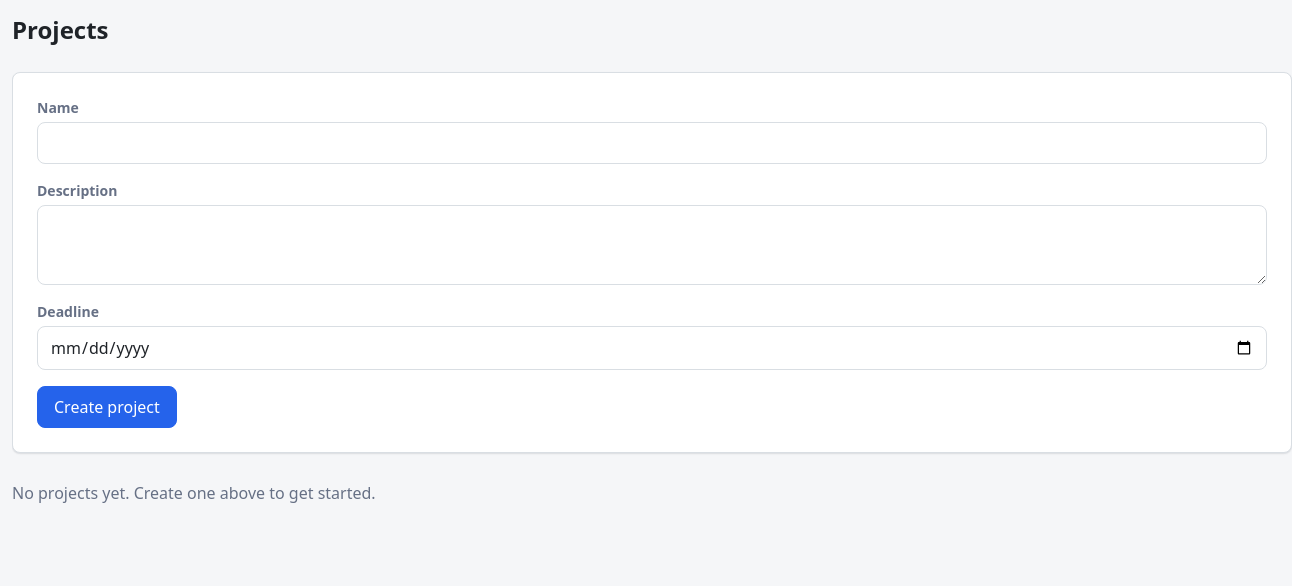
Test: ProjectsPage › shows a friendly message for a backend Name validation error (duplicate name)
The width and height of the screenshot is (1292, 586).
Check: the text "No projects yet. Create one above to get started." is shown, box [12, 482, 376, 504]
Type "Demo Project" into the field labelled "Name" at (652, 143), box [37, 122, 1267, 164]
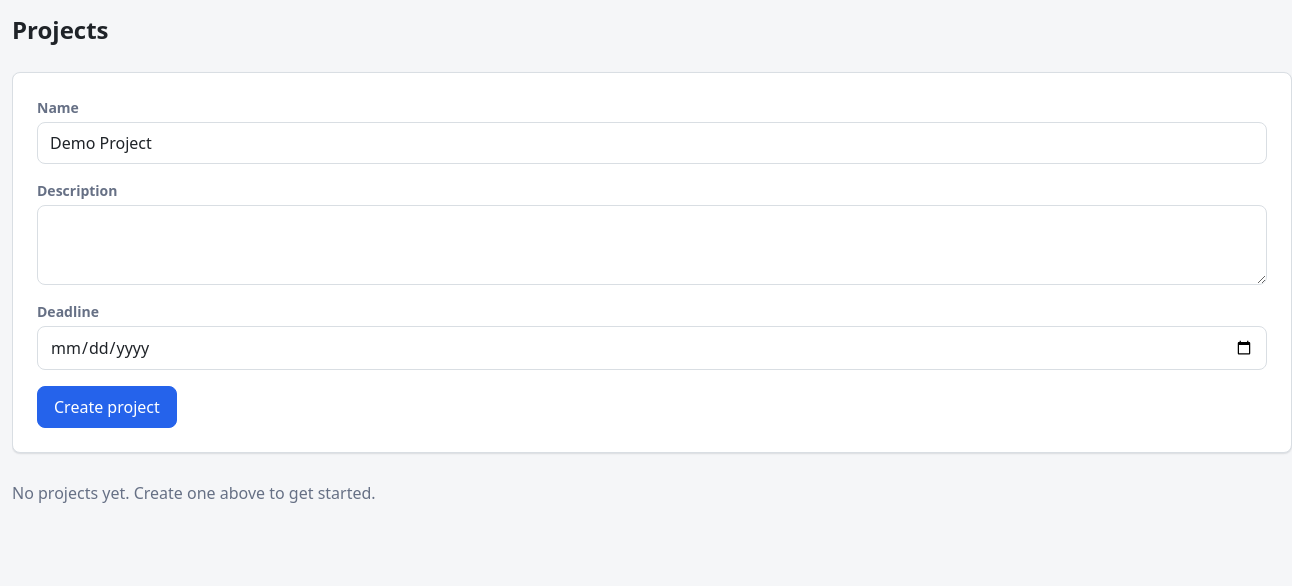
Click the button "Create project" at (107, 407), box [37, 386, 177, 428]
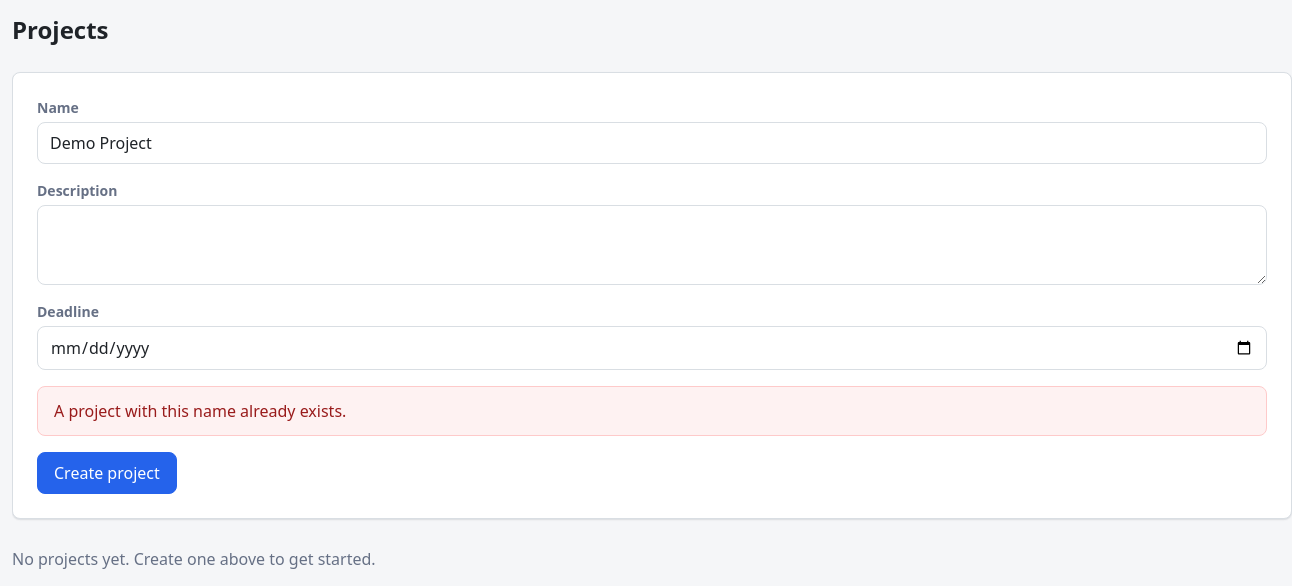
Check: the message does not show "Validation failed.", box [37, 386, 1267, 436]
Check: the message reads "A project with this name already exists.", box [54, 400, 346, 422]
